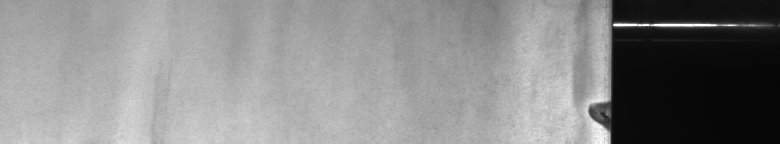hb: (567, 4, 600, 135)
